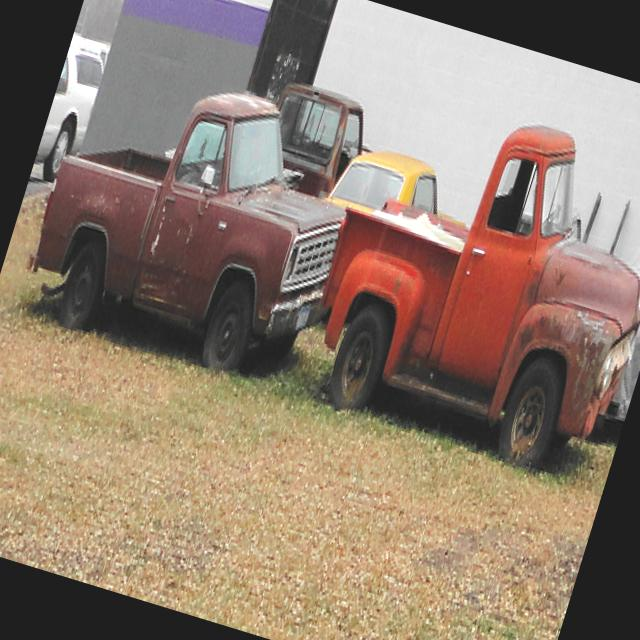Vehicle: (287, 82, 640, 495), (12, 43, 382, 400), (254, 77, 386, 210), (324, 132, 482, 241), (31, 44, 108, 186)
